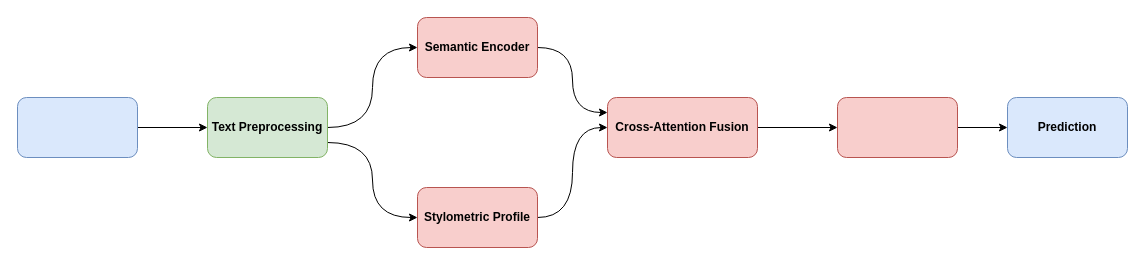
Some shapes in this 1145 by 265 pixel diagram are drawn without their labels. Here are the shapes that lost their labels. From the top down, the centre of each, then its label:
At point 77,127: "Input Text".
At point 897,127: "Classifier Head".
